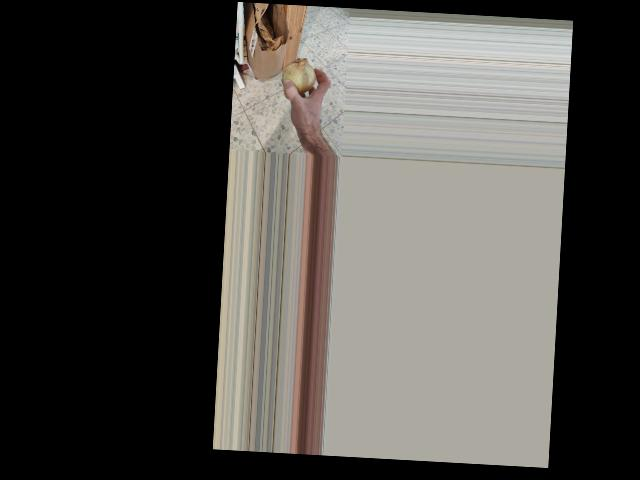onion: (277, 55, 320, 104)
